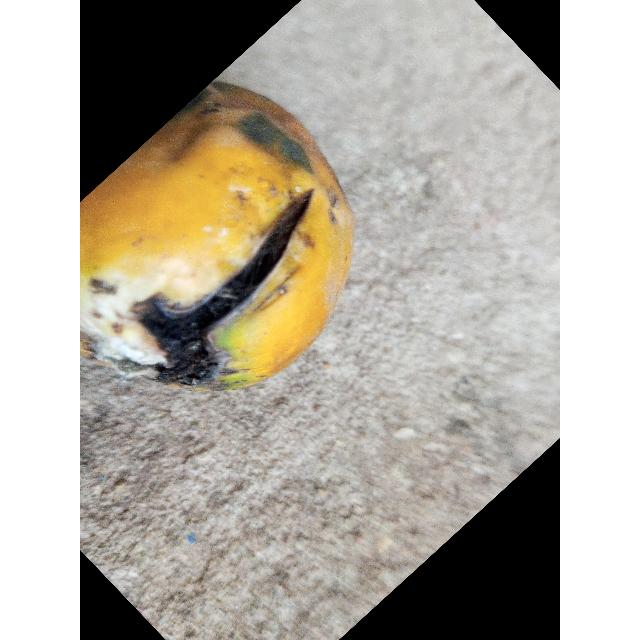damaged: (80, 81, 355, 391)
